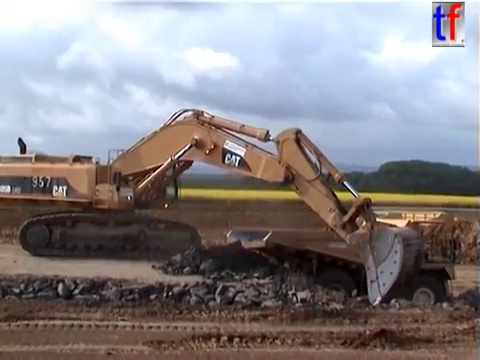truck: (1, 105, 428, 311), (222, 208, 467, 325)
